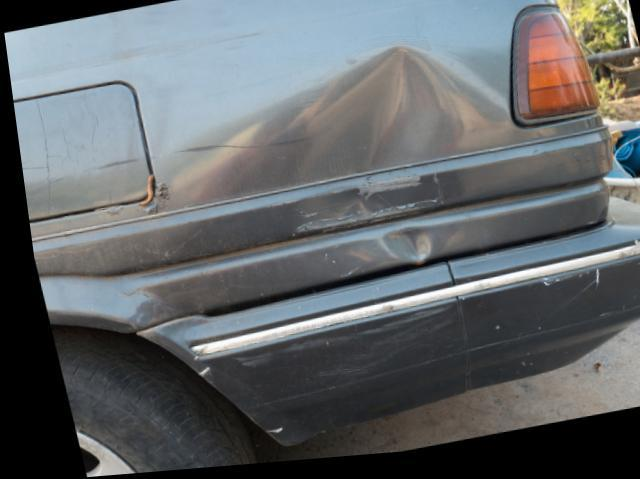dent: (173, 51, 502, 211), (376, 232, 422, 269)
